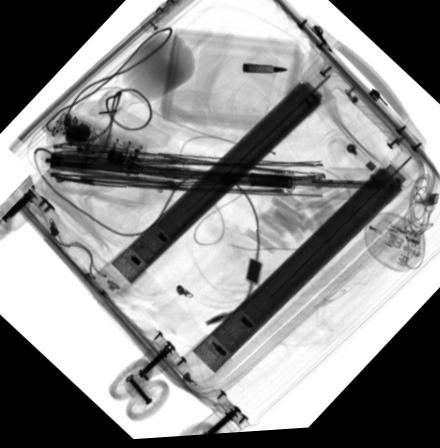Bullet: (242, 66, 288, 77)
